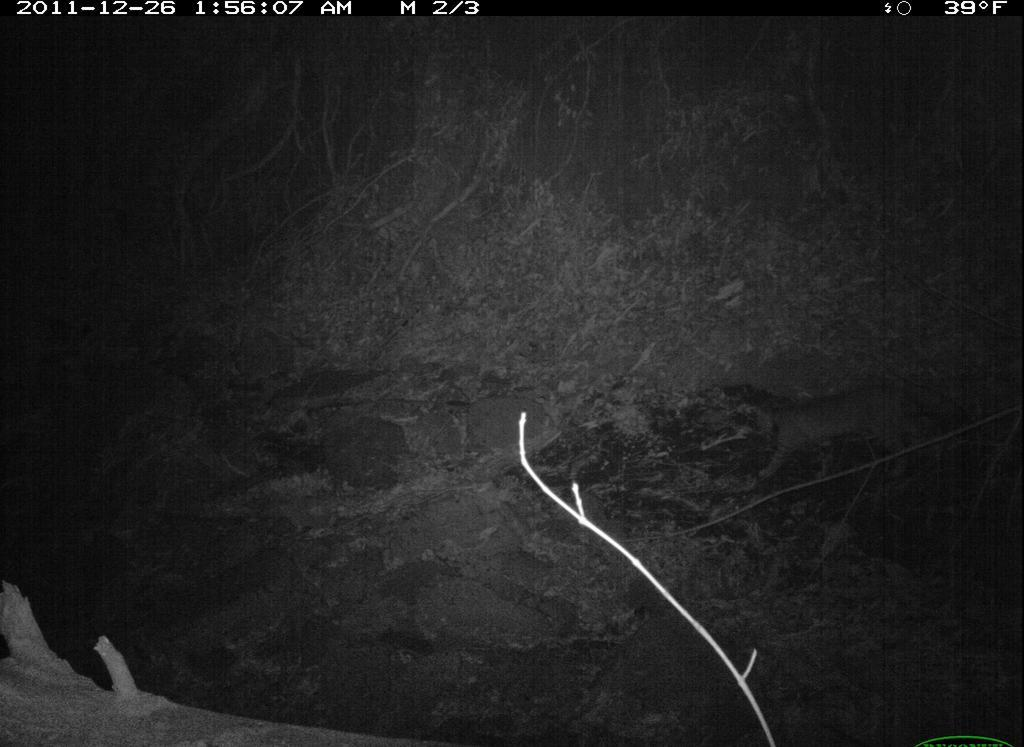bobcat: (721, 368, 944, 487)
